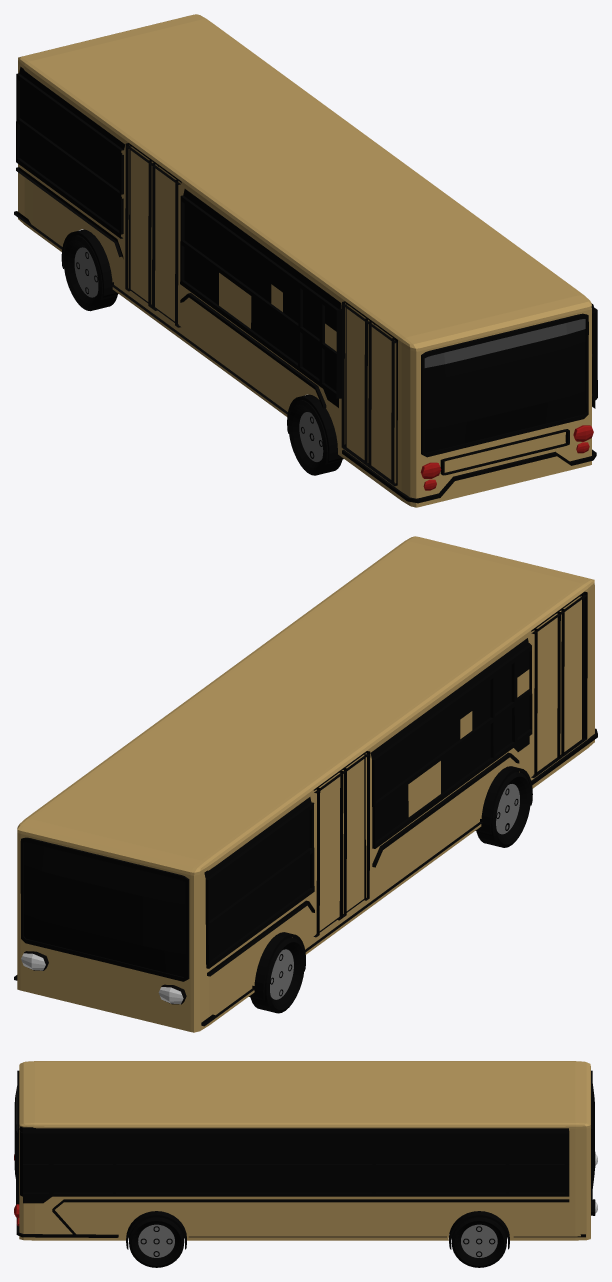
The model's file is busddd.glb.
3 renders of one model, top to bottom at view 1: azimuth 30°, elevation 25°; view 2: azimuth 150°, elevation 25°; view 3: azimuth 270°, elevation 25°, orthographic. The views are drawn at different scales.
Parts seen in each view (by area): view 1: Bus, Plane.009, Plane.002, Plane.021, Cylinder.007, Cylinder.006, Cube.004, Cube.001, Cube, Plane.023, Cylinder.003, Cylinder.005 (+3 smaller); view 2: Bus, Plane.014, Plane.002, Plane.021, Cylinder.007, Cylinder.006, Cube.010, Cube.009, Plane.023, Cylinder.005, Cylinder.003, Plane.005 (+2 smaller); view 3: Bus, Plane, Plane.022, Cylinder.004, Cylinder.002, Cylinder.001, Cylinder, Plane.012, Cube.004, Plane.009, Cube, Plane.014.
Boxes of the visible parts, x1,y1,x2,y2 form: Bus: (18,14,591,507); Plane.009: (424,319,585,452); Plane.002: (180,189,341,407); Plane.021: (16,66,124,238); Cylinder.007: (63,235,117,311); Cylinder.006: (288,400,342,475); Cube.004: (342,449,596,503); Cube.001: (421,332,505,457); Cube: (504,313,588,437); Plane.023: (180,293,326,408); Cylinder.003: (61,229,118,297); Cylinder.005: (287,394,343,462); Bus: (17,536,594,1032); Plane.014: (24,842,185,976); Plane.002: (370,638,532,848); Plane.021: (204,797,314,968); Cylinder.007: (250,937,304,1013); Cylinder.006: (476,771,530,847); Cube.010: (104,856,189,981); Cube.009: (20,837,105,962); Plane.023: (372,752,519,867); Cylinder.005: (475,766,532,834); Cylinder.003: (249,932,305,1000); Plane.005: (582,591,587,741); Bus: (19,1061,590,1240); Plane: (19,1126,569,1203); Plane.022: (52,1199,569,1234); Cylinder.004: (129,1217,184,1267); Cylinder.002: (451,1217,506,1267); Cylinder.001: (449,1211,509,1249); Cylinder: (126,1211,186,1249); Plane.012: (189,1236,446,1237); Cube.004: (16,1218,118,1237); Plane.009: (14,1086,17,1186); Cube: (17,1098,19,1200); Plane.014: (592,1084,594,1188).
Size of the model in its own units: 3.58 by 3.19 by 12.11.
